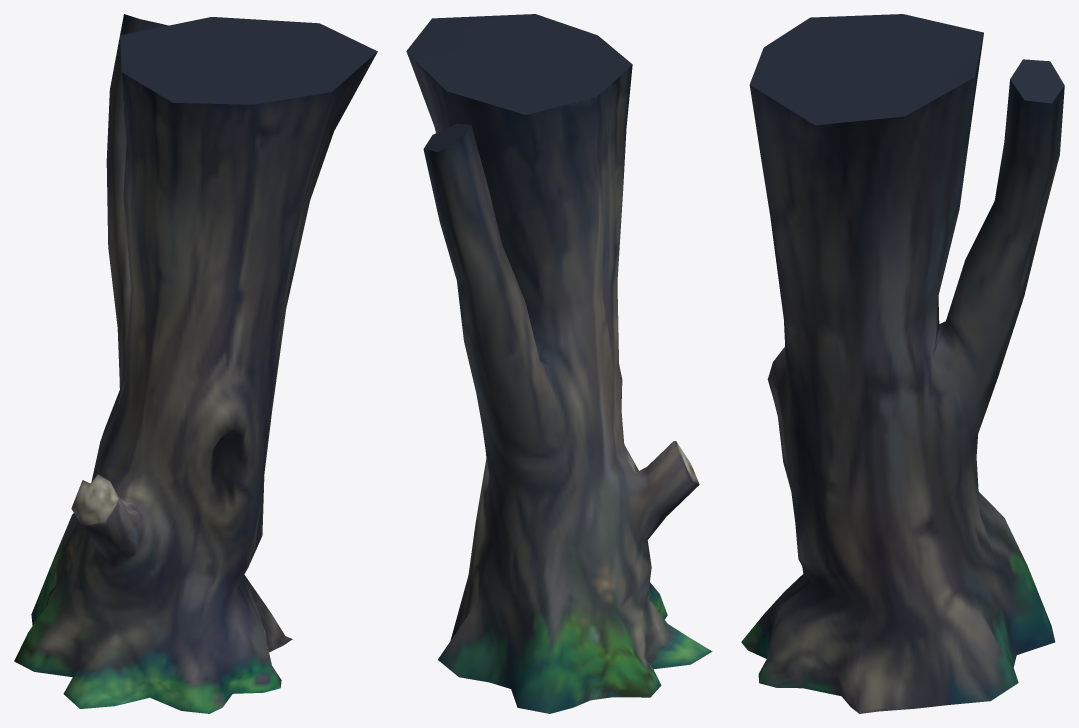
The model's file is BG001_deco_13.fbx.
3 renders of one model, left to right at view 1: azimuth 30°, elevation 25°; view 2: azimuth 150°, elevation 25°; view 3: azimuth 270°, elevation 25°, orthographic. The views are drawn at different scales.
Parts seen in each view (by area): view 1: wall_01_ms_opq; view 2: wall_01_ms_opq; view 3: wall_01_ms_opq.
Part boxes in pixels (box(x1,y1,x2,y2)): wall_01_ms_opq: box(14, 14, 377, 713); wall_01_ms_opq: box(406, 14, 712, 713); wall_01_ms_opq: box(741, 14, 1064, 713).
Size of the model in its own units: 551 by 1048 by 493.
